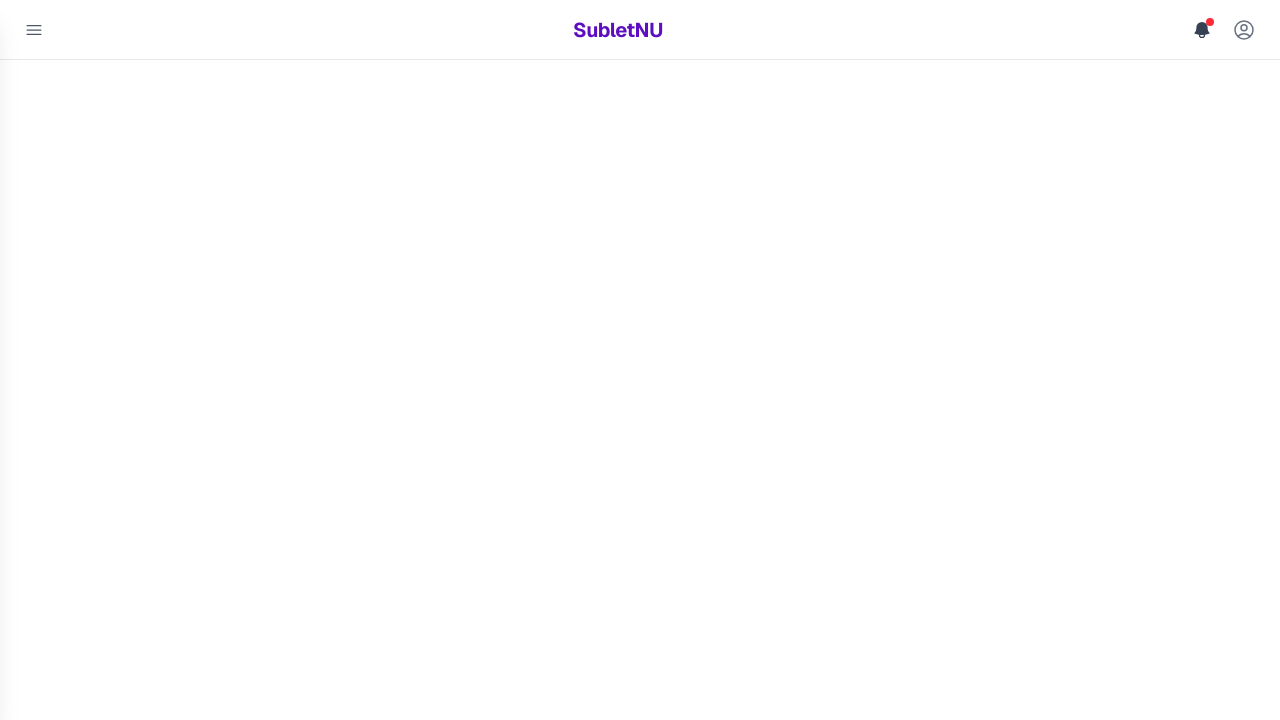
NavBar — notification bell › "Clear all" removes every notification and the dot
Click the button named "notifications". click: point(1202, 30)
box: [1184,12,1220,48]
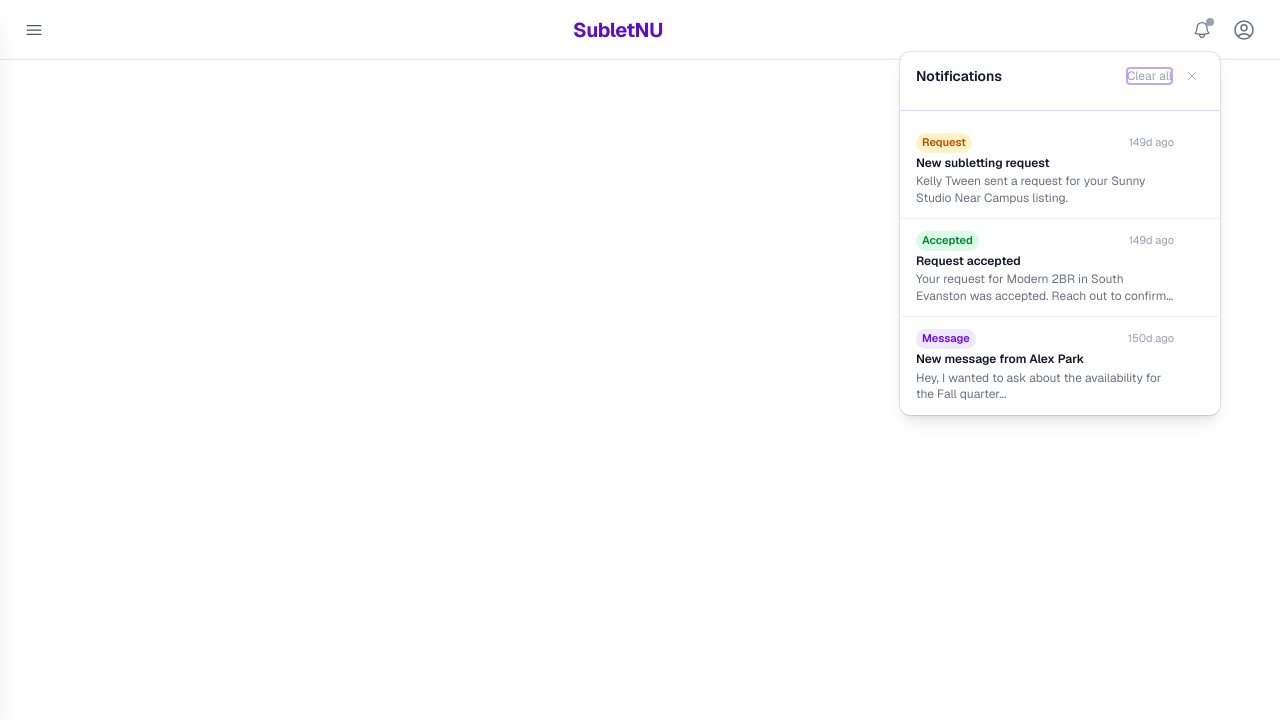
Click the button "Clear all". click: point(1149, 76)
box: [1127,68,1172,84]
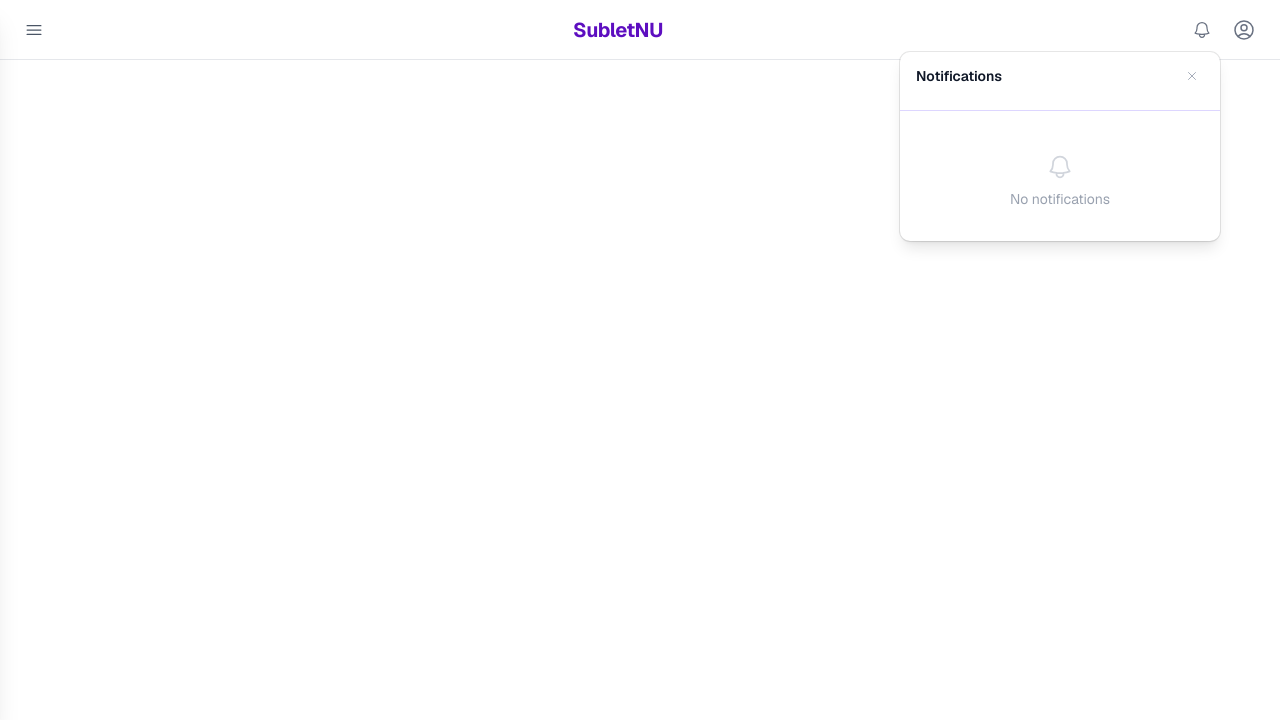
Now the element with test id "notif-dot" is gone
Now the button "Clear all" is gone
